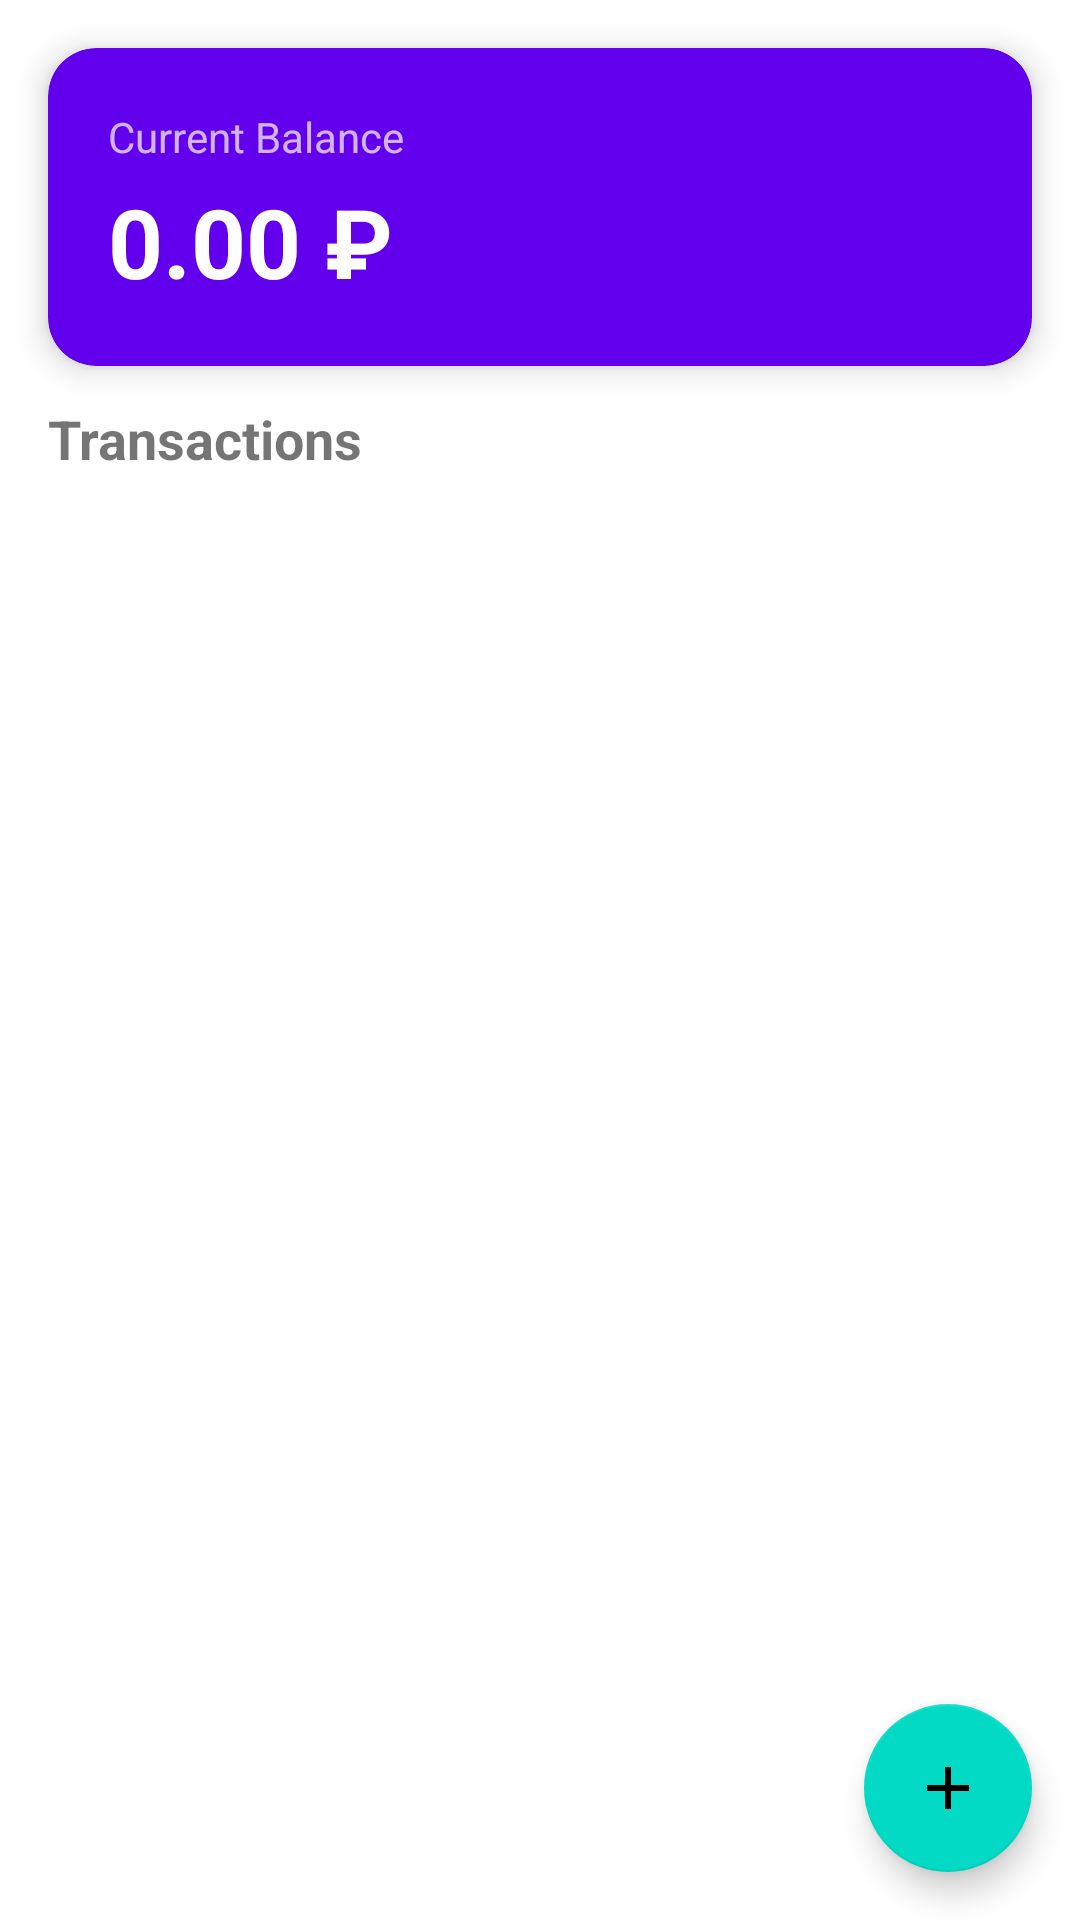

Named icons in this screenshot (1080px×1920px) and their bounding boxes, bbox=[x1, y1, x2, y2]:
Add Transaction: bbox=[864, 1704, 1032, 1872]
